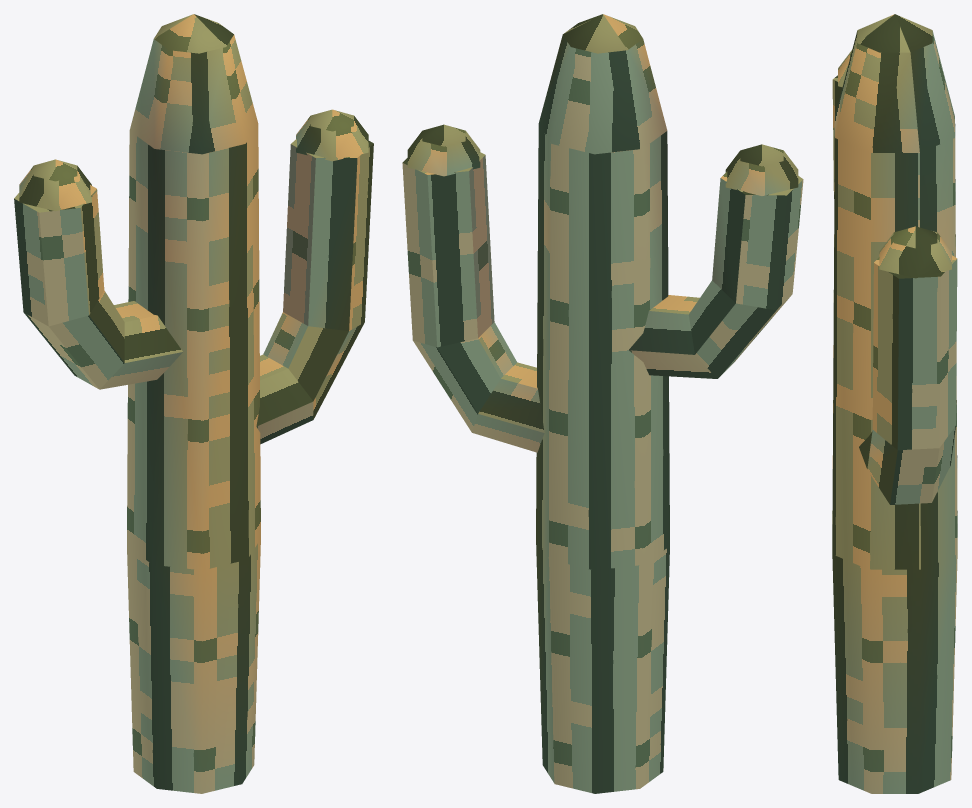
The model's file is wprop.cactus.glb.
3 renders of one model, left to right at view 1: azimuth 30°, elevation 25°; view 2: azimuth 150°, elevation 25°; view 3: azimuth 270°, elevation 25°, orthographic.
Visible parts, largest first — view 1: kit_trunk, kit_arms, kit_tips; view 2: kit_trunk, kit_arms, kit_tips; view 3: kit_trunk, kit_arms, kit_tips.
Boxes of the visible parts, left/top/right/bottom form: kit_trunk: left=127, top=14, right=260, bottom=793; kit_arms: left=14, top=139, right=373, bottom=444; kit_tips: left=19, top=109, right=368, bottom=211; kit_trunk: left=536, top=14, right=669, bottom=793; kit_arms: left=402, top=152, right=803, bottom=452; kit_tips: left=407, top=124, right=798, bottom=195; kit_trunk: left=832, top=14, right=957, bottom=793; kit_arms: left=832, top=75, right=957, bottom=504; kit_tips: left=838, top=50, right=951, bottom=278.
Bounding box in the file's own units: 1.64 × 3.2 × 0.4804.
1 material, 1 textured.
